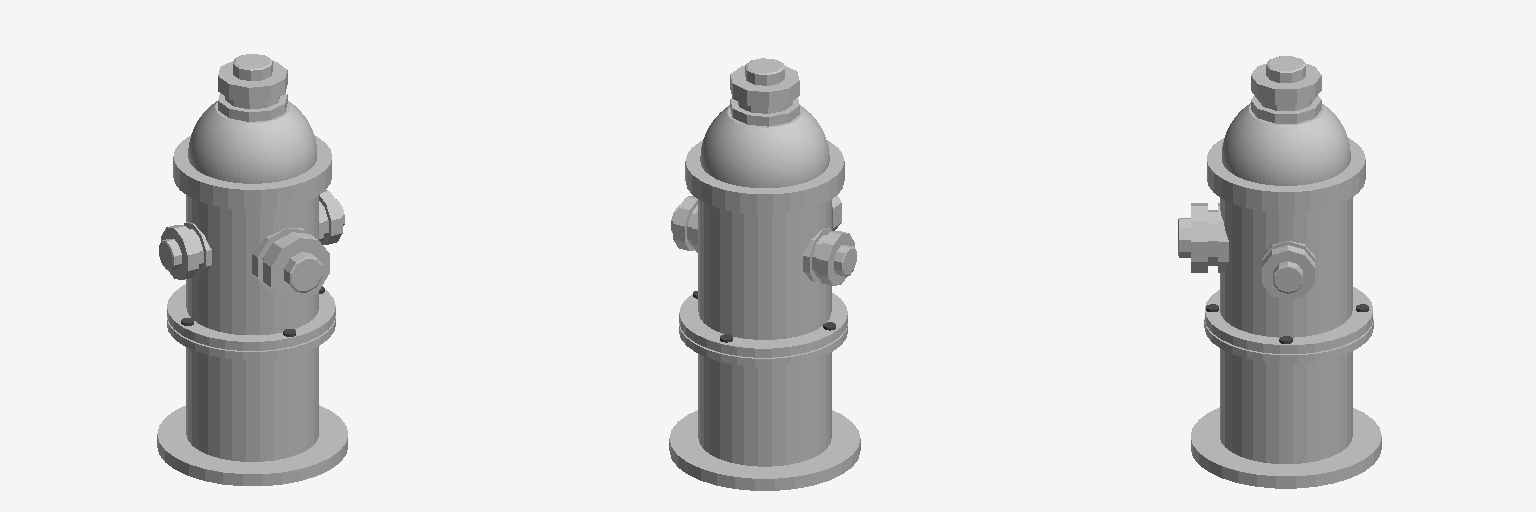
Rendered from firehydrant.obj.
3 renders of one model, left to right at view 1: azimuth 30°, elevation 25°; view 2: azimuth 150°, elevation 25°; view 3: azimuth 270°, elevation 25°, orthographic.
Parts seen in each view (by area): view 1: Circle_Circle.003, Sphere_Sphere.002, Circle.001_Circle.004, Circle.007_Circle.010, Circle.002_Circle.005, Circle.009_Circle.013, Circle.008_Circle.012; view 2: Circle_Circle.003, Sphere_Sphere.002, Circle.001_Circle.004, Circle.002_Circle.005, Circle.009_Circle.013, Circle.008_Circle.012; view 3: Circle_Circle.003, Sphere_Sphere.002, Circle.001_Circle.004, Circle.002_Circle.005, Circle.007_Circle.010, Circle.008_Circle.012.
Part boxes in pixels (x1,y1,x2,y2): Circle_Circle.003: (157,135,347,485); Sphere_Sphere.002: (188,101,316,183); Circle.001_Circle.004: (167,284,335,359); Circle.007_Circle.010: (252,228,329,302); Circle.002_Circle.005: (218,54,287,121); Circle.009_Circle.013: (159,222,211,279); Circle.008_Circle.012: (319,190,344,244); Circle_Circle.003: (669,140,860,490); Sphere_Sphere.002: (700,105,829,187); Circle.001_Circle.004: (679,293,847,366); Circle.002_Circle.005: (730,58,799,126); Circle.009_Circle.013: (803,228,856,285); Circle.008_Circle.012: (671,196,697,252); Circle_Circle.003: (1191,138,1381,488); Sphere_Sphere.002: (1222,103,1350,185); Circle.001_Circle.004: (1204,287,1373,362); Circle.002_Circle.005: (1251,56,1321,123); Circle.007_Circle.010: (1178,203,1228,272); Circle.008_Circle.012: (1262,241,1314,300).
Bounding box in the file's own units: 2.08 × 4.44 × 2.13.